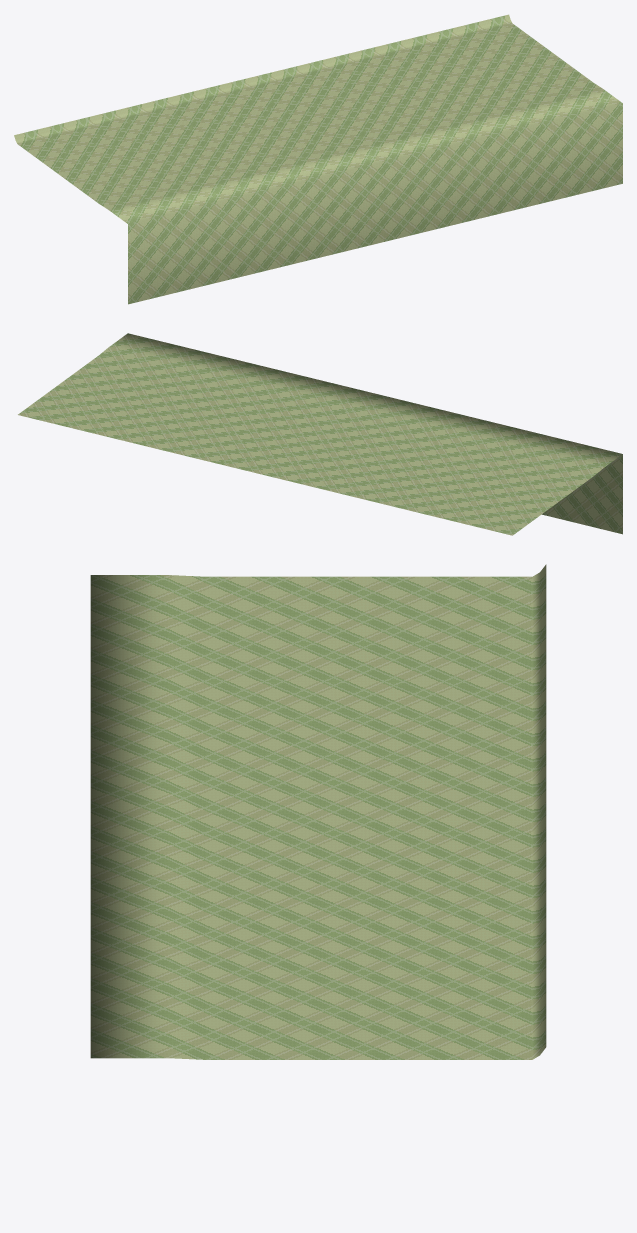
File: kd_stage_135ded_4_33.glb
3 views of the same model, one above another, from view 1: azimuth 30°, elevation 25°; view 2: azimuth 150°, elevation 25°; view 3: azimuth 270°, elevation 25° (orthographic). The views are drawn at different scales.
Parts seen in each view (by area): view 1: kd_stage_135ded_4_33; view 2: kd_stage_135ded_4_33; view 3: kd_stage_135ded_4_33.
Part boxes in pixels (x1,y1,x2,y2): kd_stage_135ded_4_33: (14,14,622,304); kd_stage_135ded_4_33: (18,333,622,535); kd_stage_135ded_4_33: (90,564,546,1059).
Size of the model in its own units: 1.78 by 0.2944 by 0.7079.
Materials: 1 (1 with a texture image).
